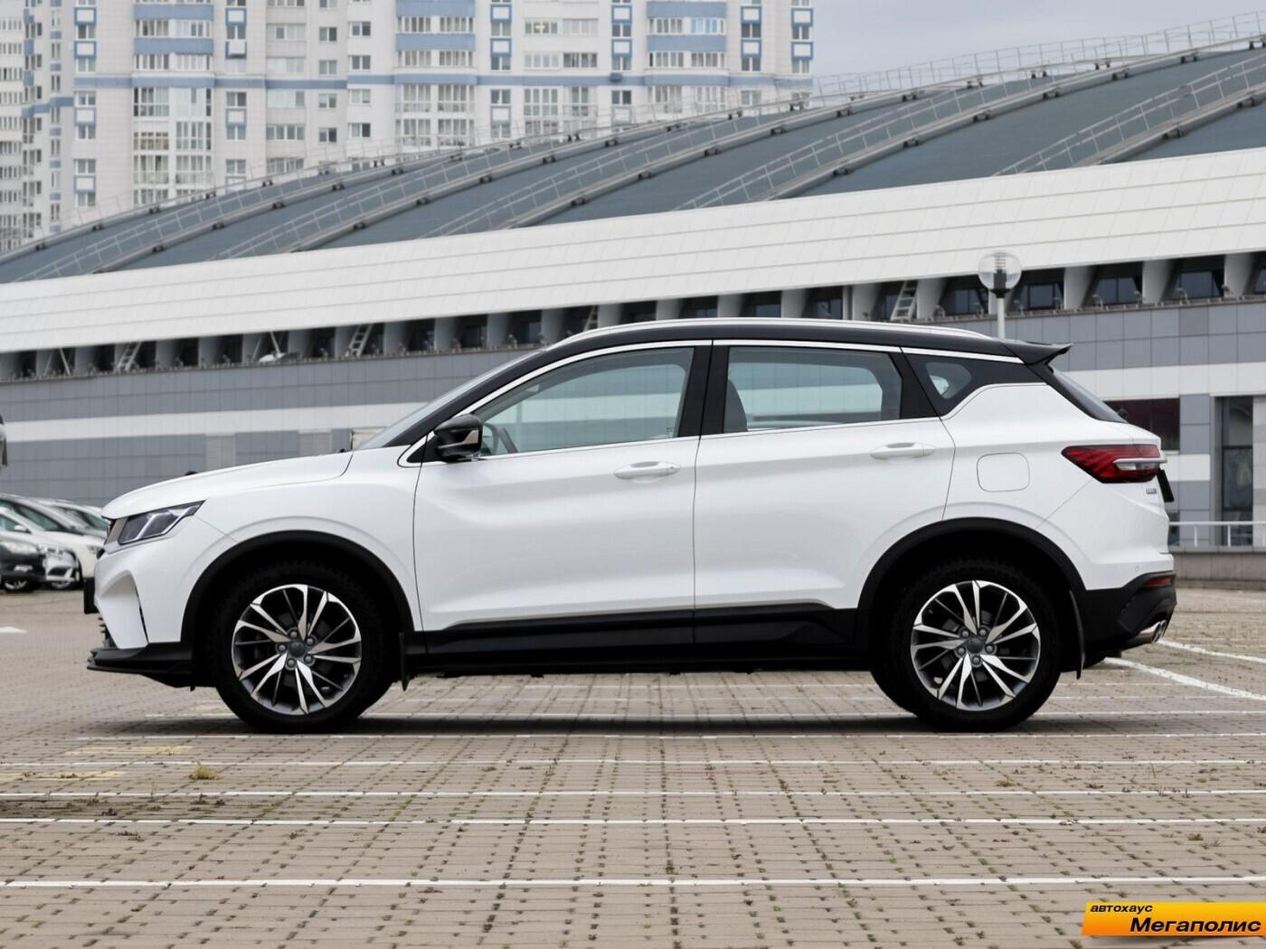Coolray_2019-2023: (79, 314, 1172, 736)
